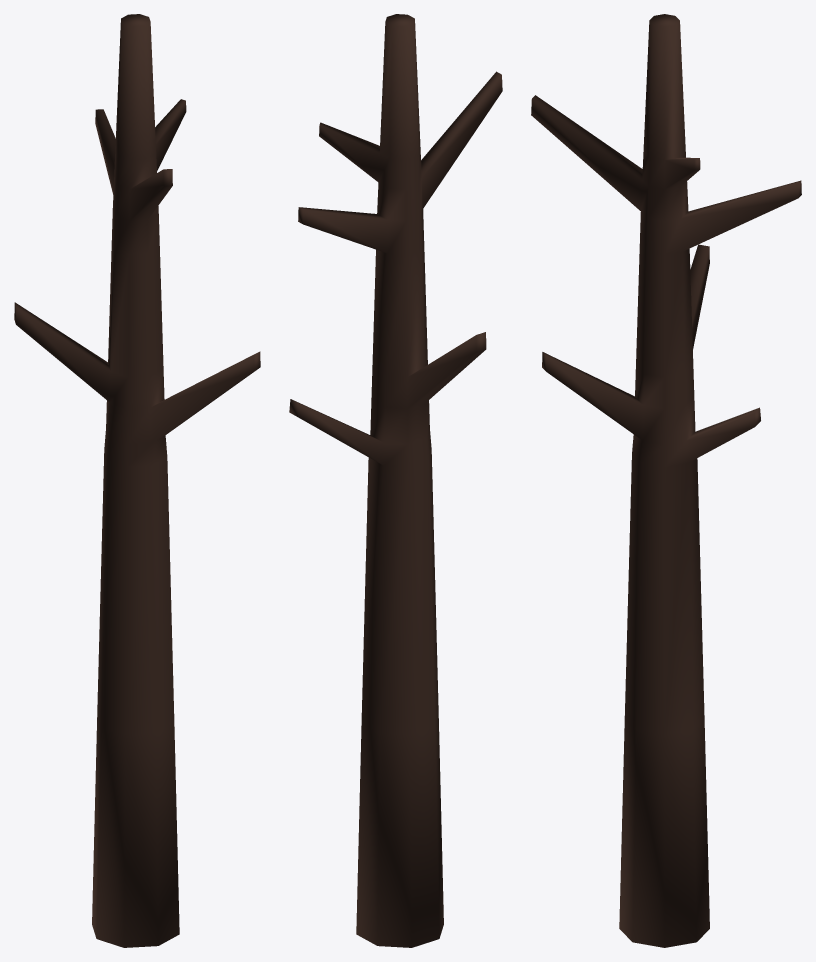
The model's file is deadtree.glb.
The picture shows the model from 3 angles, left to right: view 1: azimuth 30°, elevation 25°; view 2: azimuth 150°, elevation 25°; view 3: azimuth 270°, elevation 25°; orthographic projection.
Parts seen in each view (by area): view 1: Cylinder-col; view 2: Cylinder-col; view 3: Cylinder-col.
Part boxes in pixels (x1,y1,x2,y2): Cylinder-col: (14,14,260,947); Cylinder-col: (289,14,502,947); Cylinder-col: (531,14,801,947).
Bounding box in the file's own units: 4.29 × 22.1 × 5.97.
